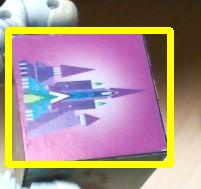Castle4: (8, 30, 170, 164)
